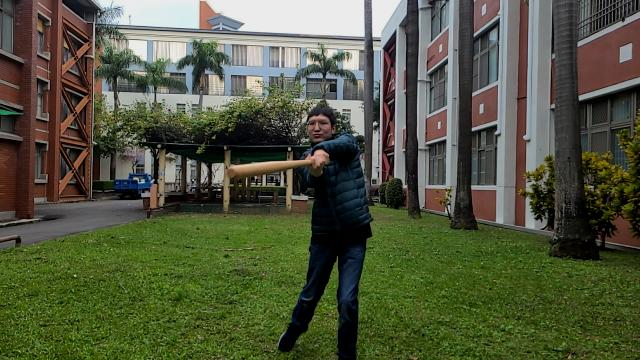baseball bat: (225, 160, 312, 180)
